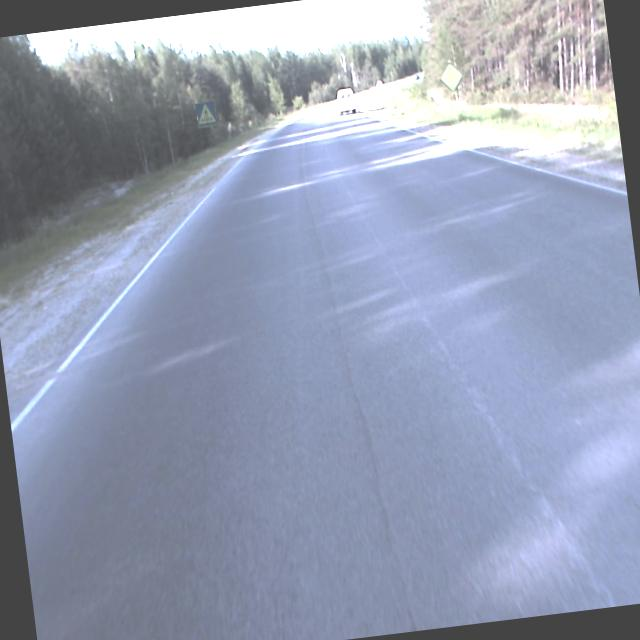road: (8, 80, 640, 640)
